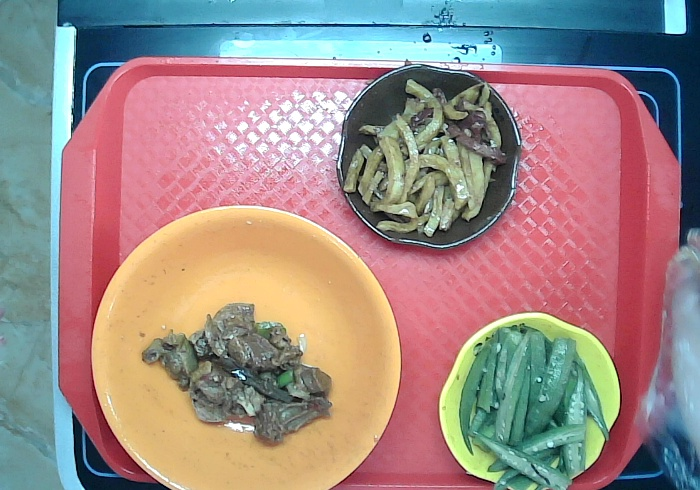YKMZ-Huang_Se_Ao_Bian_Wan: (437, 309, 623, 490)
YKMZ-Ju_Se_Tang_Wan: (89, 203, 403, 490)
YKMZ-Ka_Fei_Ao_Bian_Wan: (335, 62, 523, 250)
